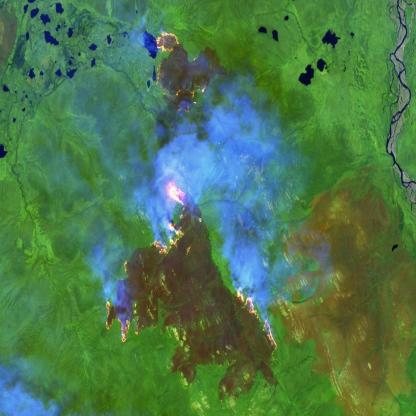fire: (101, 177, 281, 359), (152, 27, 207, 116)
